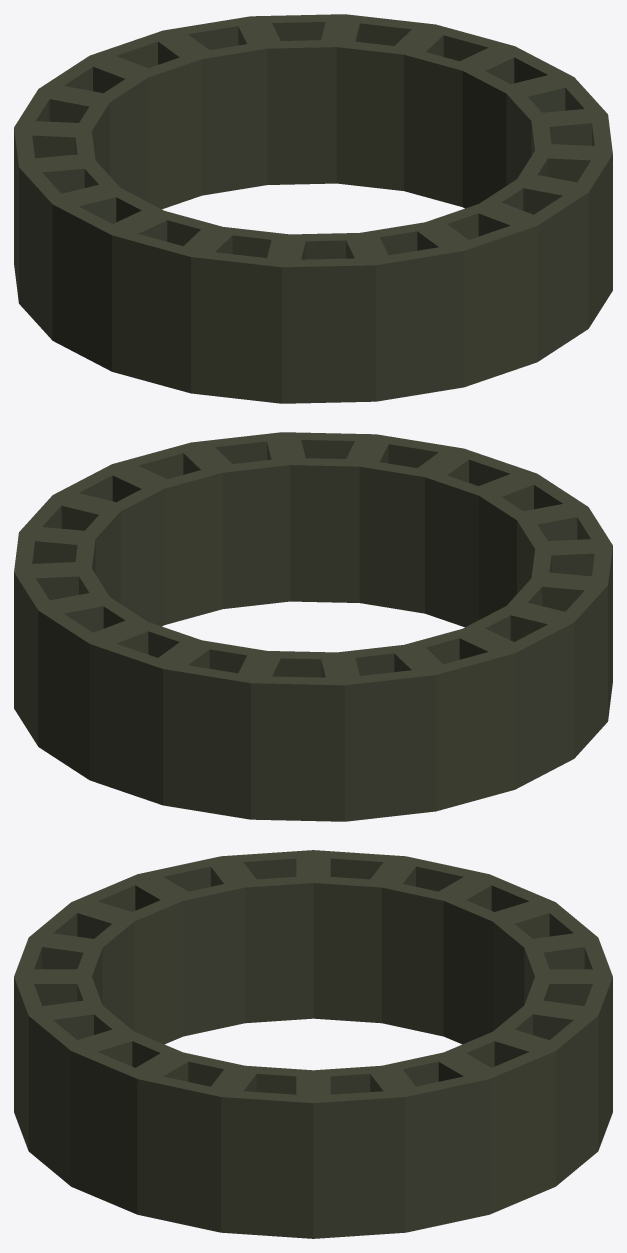
The model's file is Ring.fbx.
The picture shows the model from 3 angles, top to bottom: view 1: azimuth 30°, elevation 25°; view 2: azimuth 150°, elevation 25°; view 3: azimuth 270°, elevation 25°; orthographic projection.
Parts seen in each view (by area): view 1: Cylinder.001; view 2: Cylinder.001; view 3: Cylinder.001.
Part boxes in pixels (x1,y1,x2,y2): Cylinder.001: (14, 14, 612, 403); Cylinder.001: (14, 432, 612, 821); Cylinder.001: (14, 850, 612, 1238).
Size of the model in its own units: 200 by 50 by 200.
